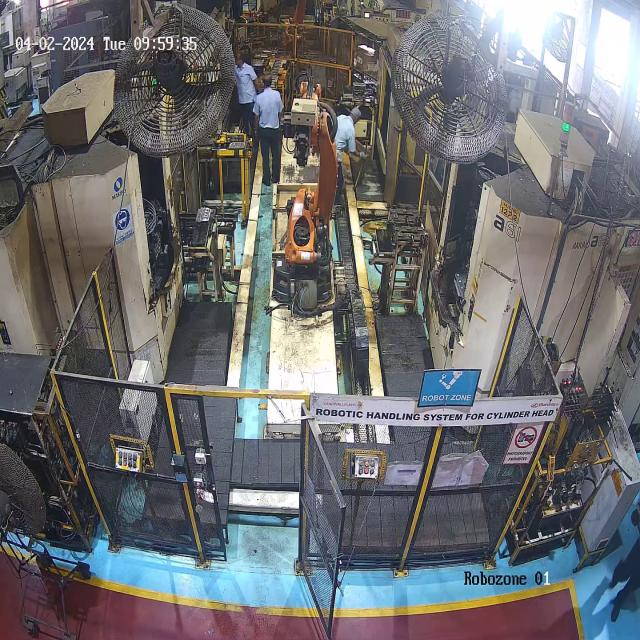person: (335, 102, 365, 207), (260, 71, 286, 187), (235, 50, 257, 141)
